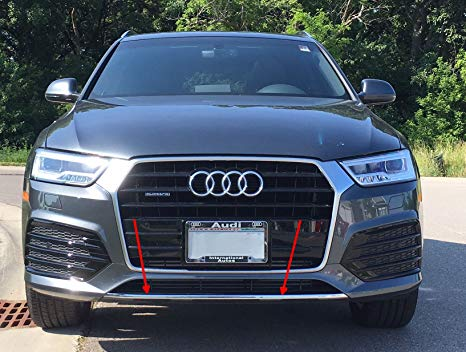audi: (182, 162, 273, 202)
